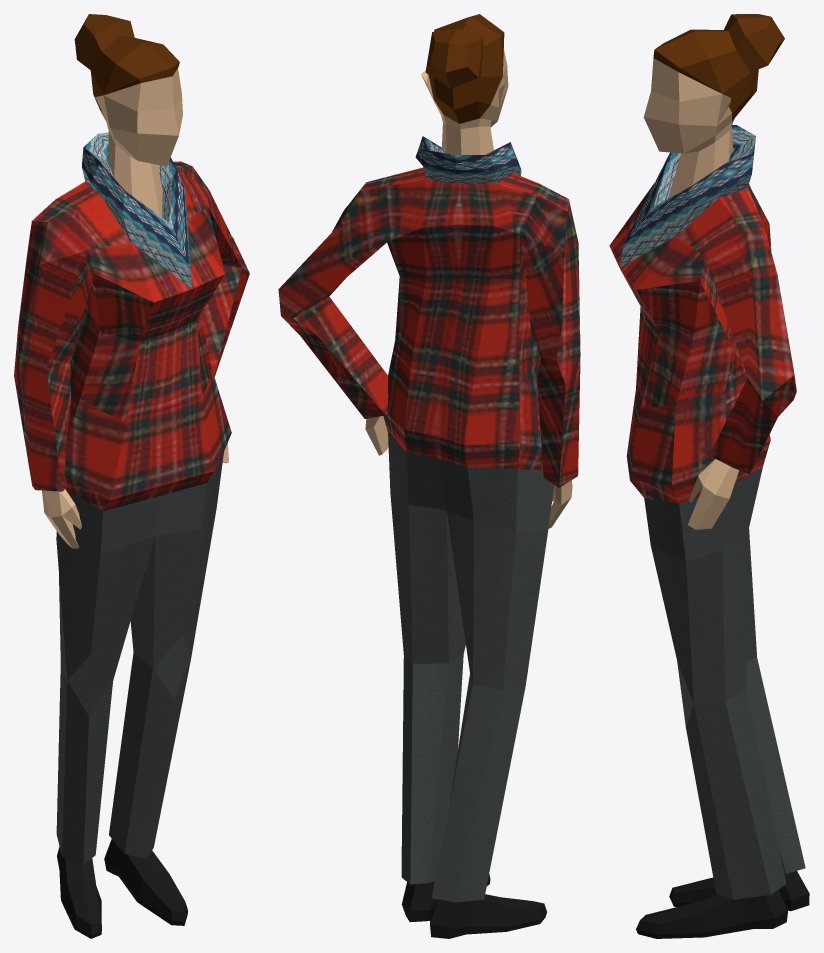
The model's file is AutumnWomanC.010.glb.
3 views of the same model, side by side, from view 1: azimuth 30°, elevation 25°; view 2: azimuth 150°, elevation 25°; view 3: azimuth 270°, elevation 25° (orthographic). The views are drawn at different scales.
Visible parts, largest first — view 1: AutumnWomanC.010; view 2: AutumnWomanC.010; view 3: AutumnWomanC.010.
Part boxes in pixels (x1,y1,x2,y2): AutumnWomanC.010: [14, 14, 249, 938]; AutumnWomanC.010: [278, 14, 580, 938]; AutumnWomanC.010: [609, 14, 809, 938].
Bounding box in the file's own units: 0.5299 × 1.74 × 0.3471.
Materials: 1 (1 with a texture image).
